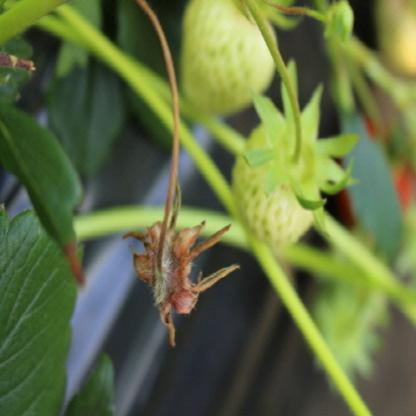Strawberry_Gray_Mold: (121, 176, 241, 348)
